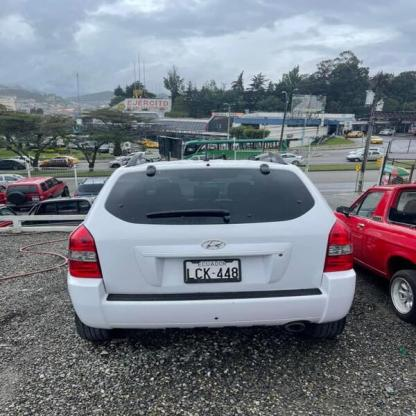Placa: (180, 255, 244, 282)
